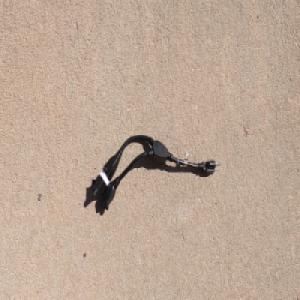Wire: (90, 133, 222, 210)
